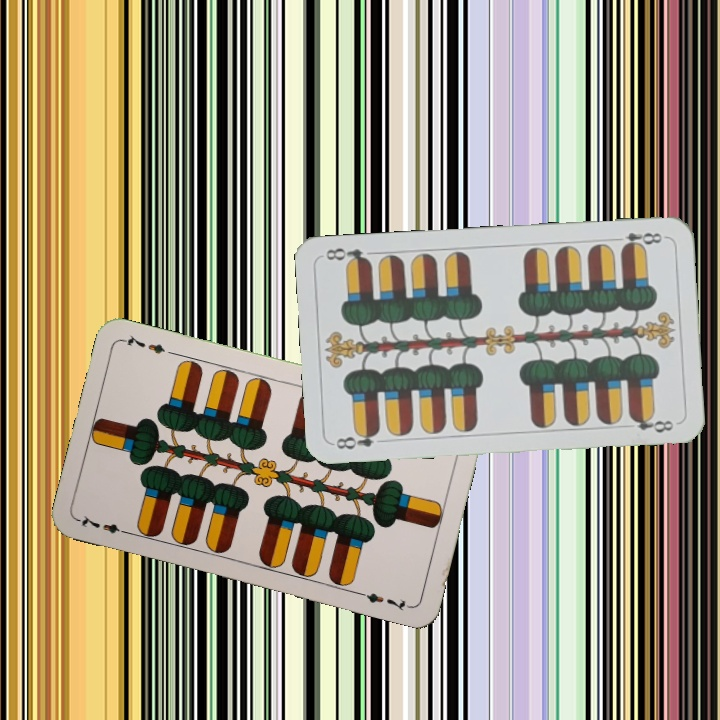E7: (75, 511, 133, 538)
E8: (609, 228, 668, 252), (332, 426, 383, 452)
